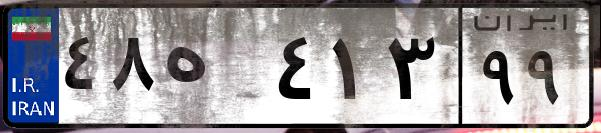1: (330, 28, 385, 110)
3: (385, 28, 445, 110)
4: (270, 28, 330, 110), (57, 26, 110, 100)
8: (110, 28, 158, 98)
9: (475, 38, 525, 113), (525, 38, 570, 115)
ه: (158, 20, 270, 120)
